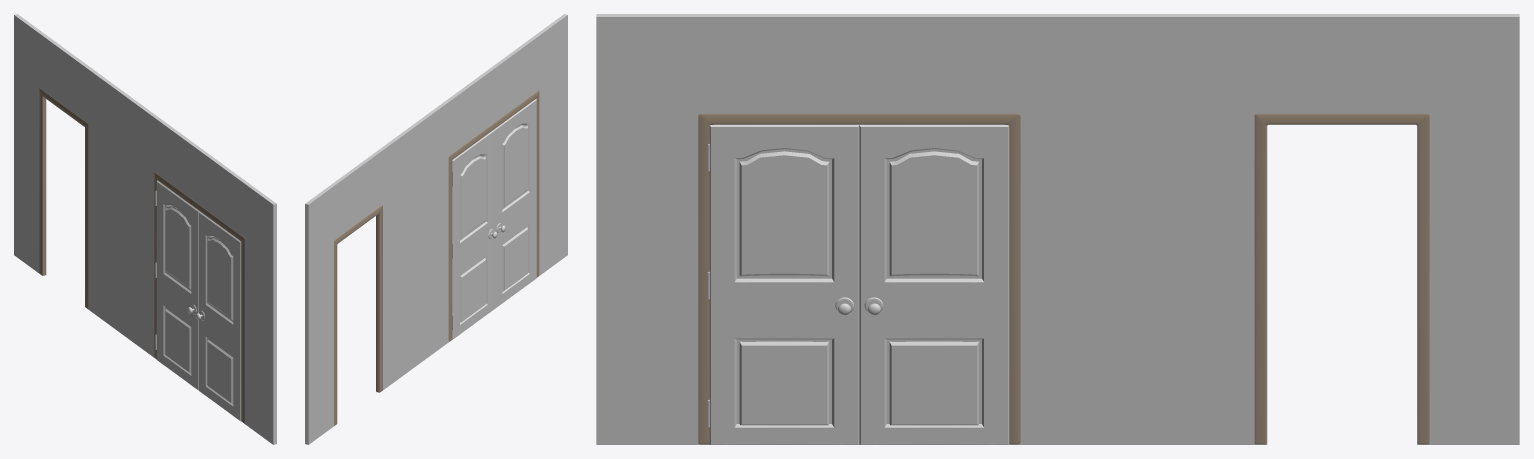
The model's file is sm_front_wall.fbx.
3 renders of one model, left to right at view 1: azimuth 30°, elevation 25°; view 2: azimuth 150°, elevation 25°; view 3: azimuth 270°, elevation 25°, orthographic. The views are drawn at different scales.
Visible parts, largest first — view 1: polySurface371, door2 (×2), doorframe_s, polySurface372; view 2: polySurface371, door2 (×2), doorframe_s, polySurface372; view 3: polySurface371, door2 (×2), polySurface372, doorframe_s.
Part boxes in pixels (x1,y1,x2,y2): polySurface371: (14,14,276,444); door2 (×2): (156,180,241,421); doorframe_s: (39,88,88,308); polySurface372: (154,172,244,423); polySurface371: (305,14,567,444); door2 (×2): (452,99,536,339); doorframe_s: (334,205,382,425); polySurface372: (448,90,539,341); polySurface371: (596,14,1519,444); door2 (×2): (709,125,1009,444); polySurface372: (698,113,1020,444); doorframe_s: (1254,113,1429,444).
Bounding box in the file's own units: 43.78 × 580 × 1135.
